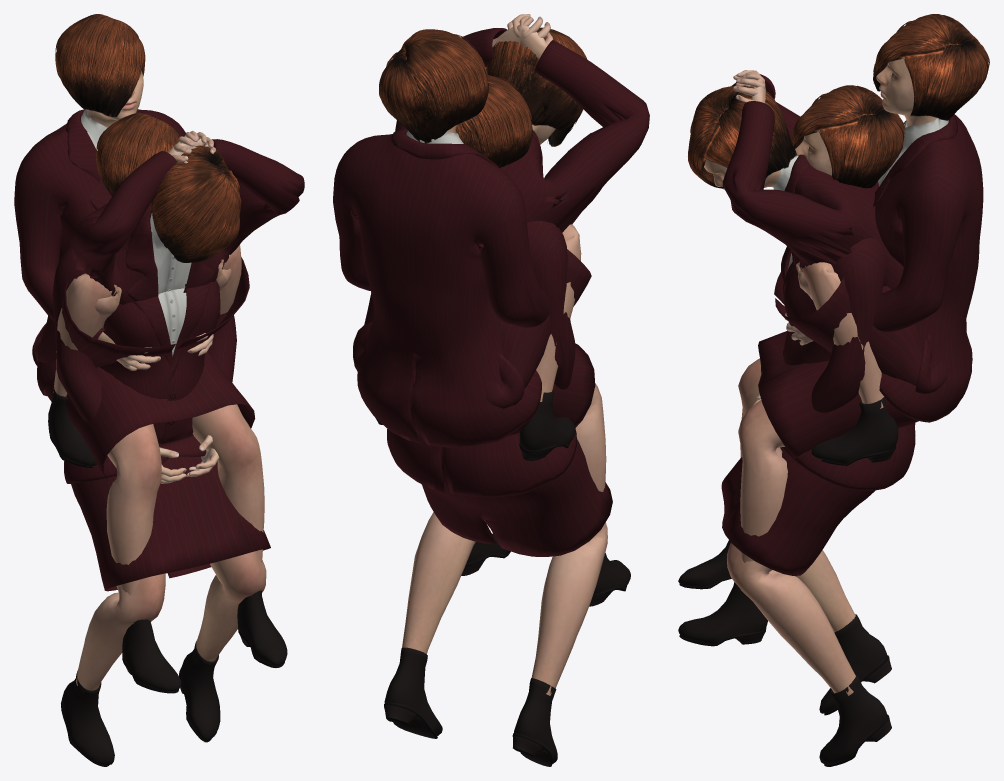
Rendered from civ_frau.glb.
The picture shows the model from 3 angles, left to right: view 1: azimuth 30°, elevation 25°; view 2: azimuth 150°, elevation 25°; view 3: azimuth 270°, elevation 25°; orthographic projection. The views are drawn at different scales.
Visible parts, largest first — view 1: lie, seat, cower; view 2: seat, lie, cower; view 3: seat, lie, cower.
Part boxes in pixels (x1,y1,x2,y2): lie: (52, 112, 270, 766); seat: (14, 14, 287, 693); cower: (32, 131, 304, 467); seat: (333, 29, 630, 606); lie: (384, 75, 612, 766); cower: (353, 14, 649, 460); seat: (678, 14, 989, 646); lie: (721, 85, 915, 766); cower: (688, 70, 947, 465).
Bounding box in the file's own units: 0.5617 × 1.73 × 0.6785.
7 materials, 7 textured.
